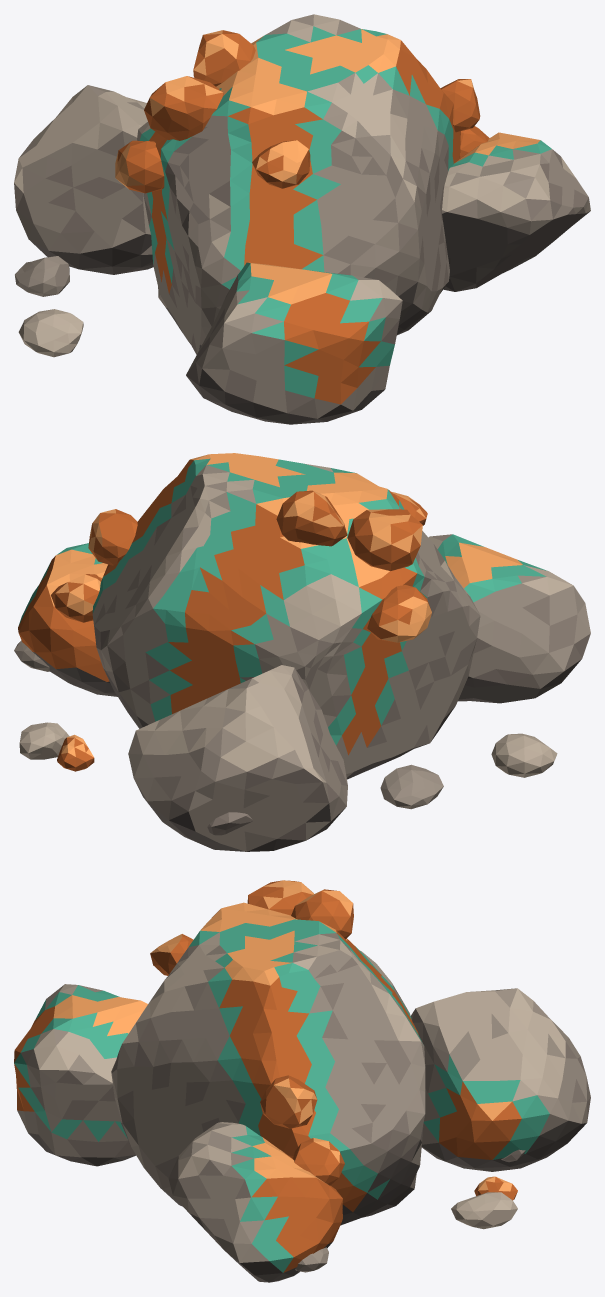
File: Vein_Copper.obj
3 views of the same model, one above another, from view 1: azimuth 30°, elevation 25°; view 2: azimuth 150°, elevation 25°; view 3: azimuth 270°, elevation 25° (orthographic). The views are drawn at different scales.
Visible parts, largest first — view 1: Vein_Copper; view 2: Vein_Copper; view 3: Vein_Copper.
Boxes of the visible parts, <box> form: Vein_Copper: <box>14,14,590,424</box>; Vein_Copper: <box>14,453,590,851</box>; Vein_Copper: <box>14,880,590,1282</box>.
Bounding box in the file's own units: 1.52 × 0.7283 × 1.44.
